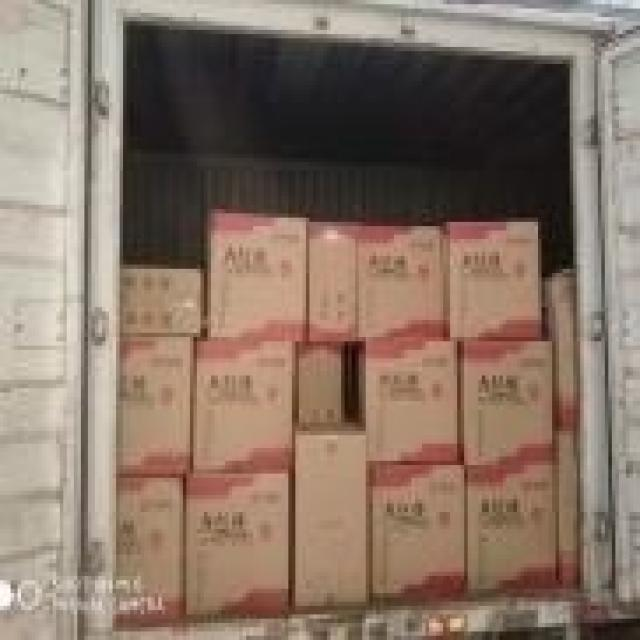box: (186, 471, 292, 616), (291, 419, 369, 614), (199, 210, 308, 343), (192, 338, 295, 471), (368, 461, 464, 602), (353, 343, 461, 463), (463, 459, 560, 592), (439, 218, 541, 339), (461, 341, 554, 463), (118, 336, 195, 475), (118, 472, 185, 622), (355, 229, 442, 339), (306, 219, 361, 338), (121, 265, 204, 337), (541, 267, 577, 430), (296, 338, 346, 424), (555, 427, 580, 583)
